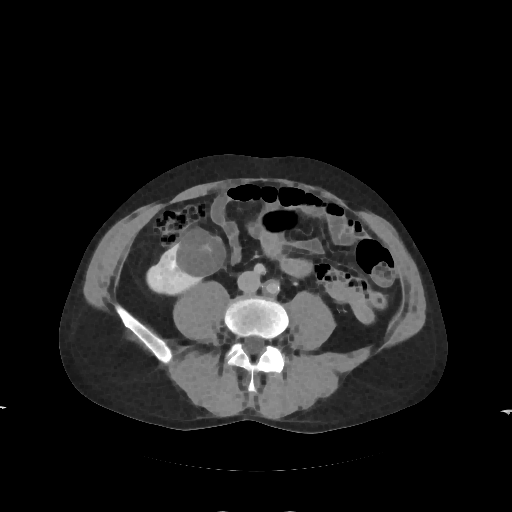Lesion: (174, 228, 227, 275)
